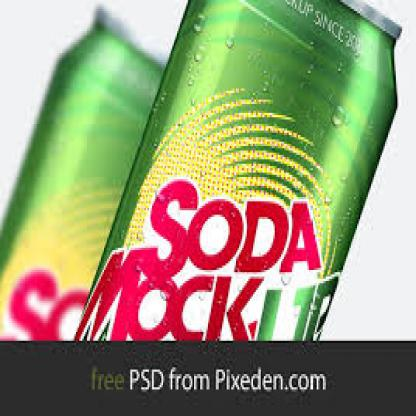METAL: (71, 0, 402, 341), (0, 4, 162, 341)
